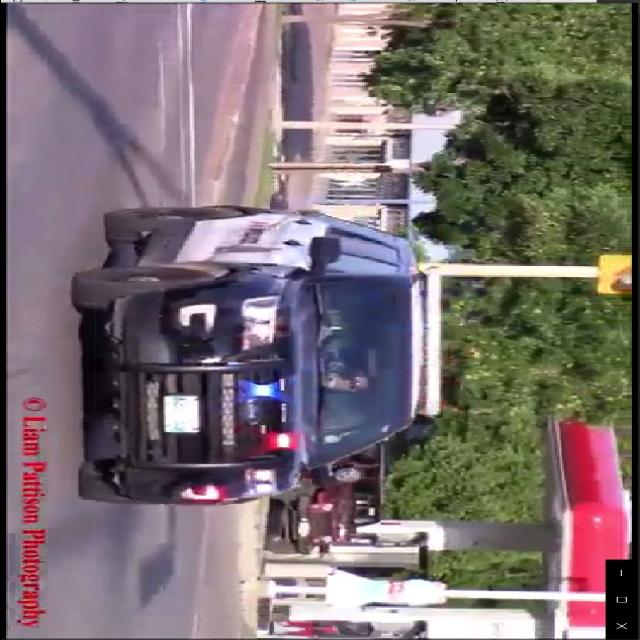emergency: (63, 202, 446, 508)
